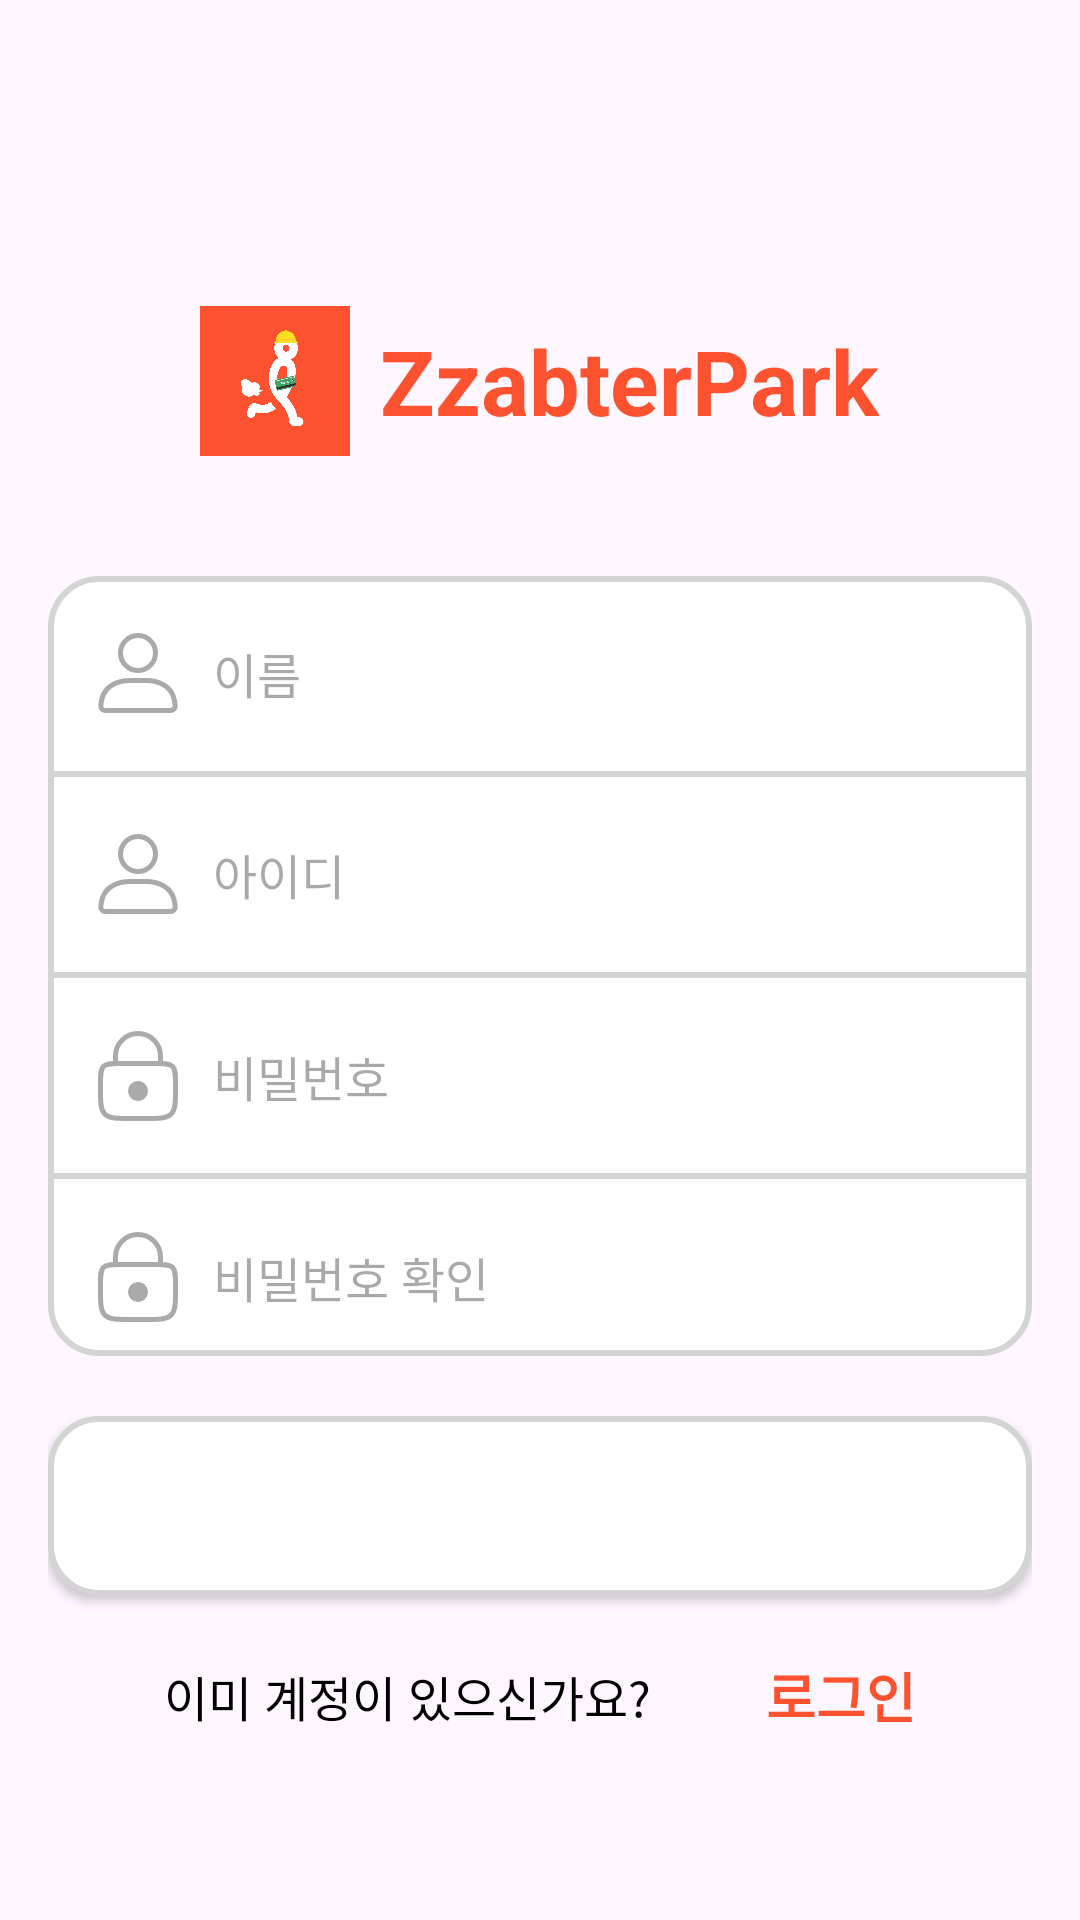

Point at icon controls on the screen. Image size 1080*1920, points as [x,y].
lock: [138,1076], [138,1277]
user: [138,673], [138,874]
